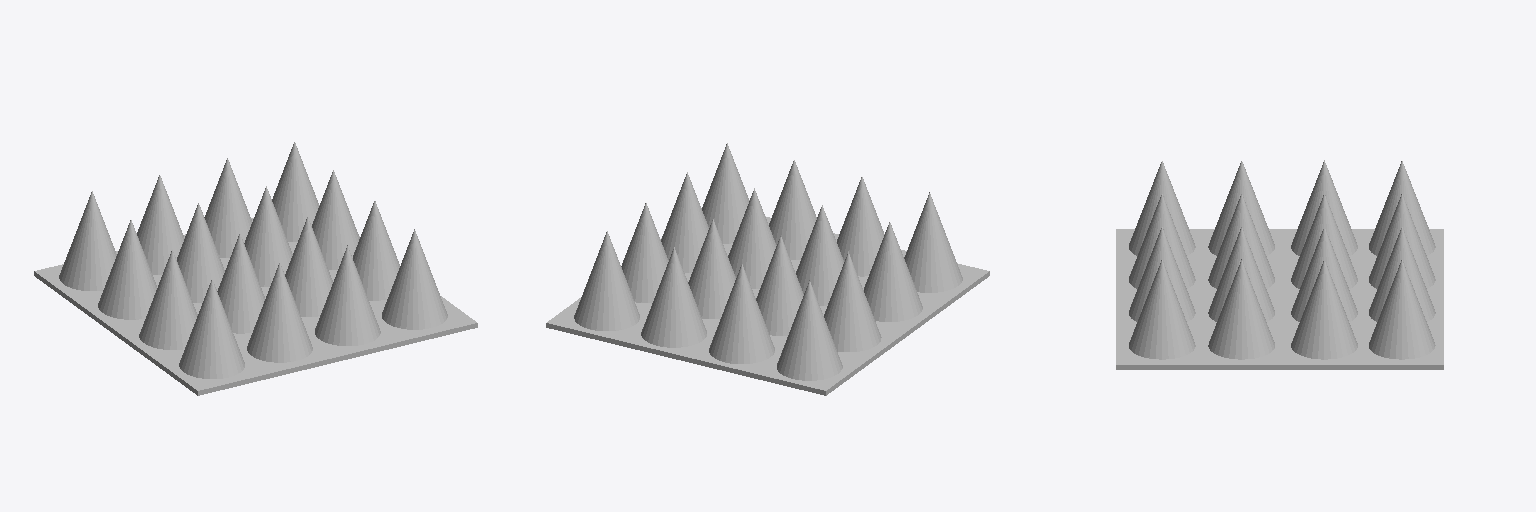
The model's file is obstacle_.obj.
3 renders of one model, left to right at view 1: azimuth 30°, elevation 25°; view 2: azimuth 150°, elevation 25°; view 3: azimuth 270°, elevation 25°, orthographic.
Visible parts, largest first — view 1: Cube; view 2: Cube; view 3: Cube.
Boxes of the visible parts, box(x1,y1,x2,y2) form: Cube: box(34, 142, 477, 395); Cube: box(546, 143, 989, 395); Cube: box(1116, 160, 1443, 369).
Size of the model in its own units: 1.97 by 0.6189 by 2.